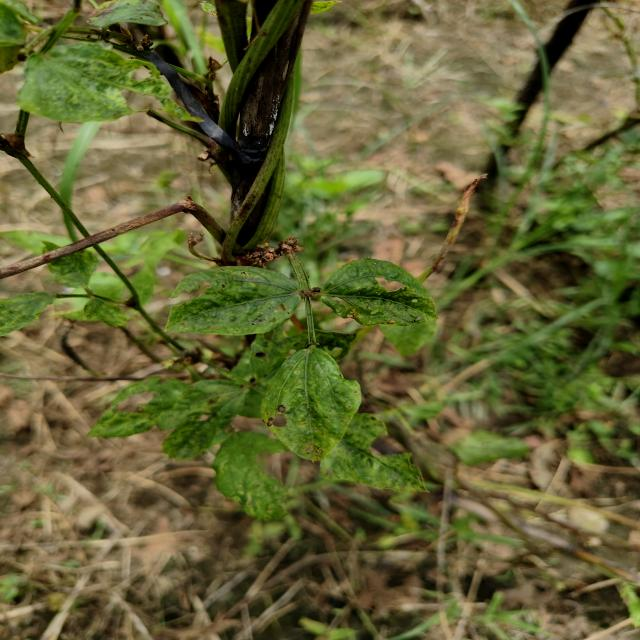leaf-moderate: (315, 258, 437, 355), (261, 345, 361, 461), (166, 266, 307, 335)
